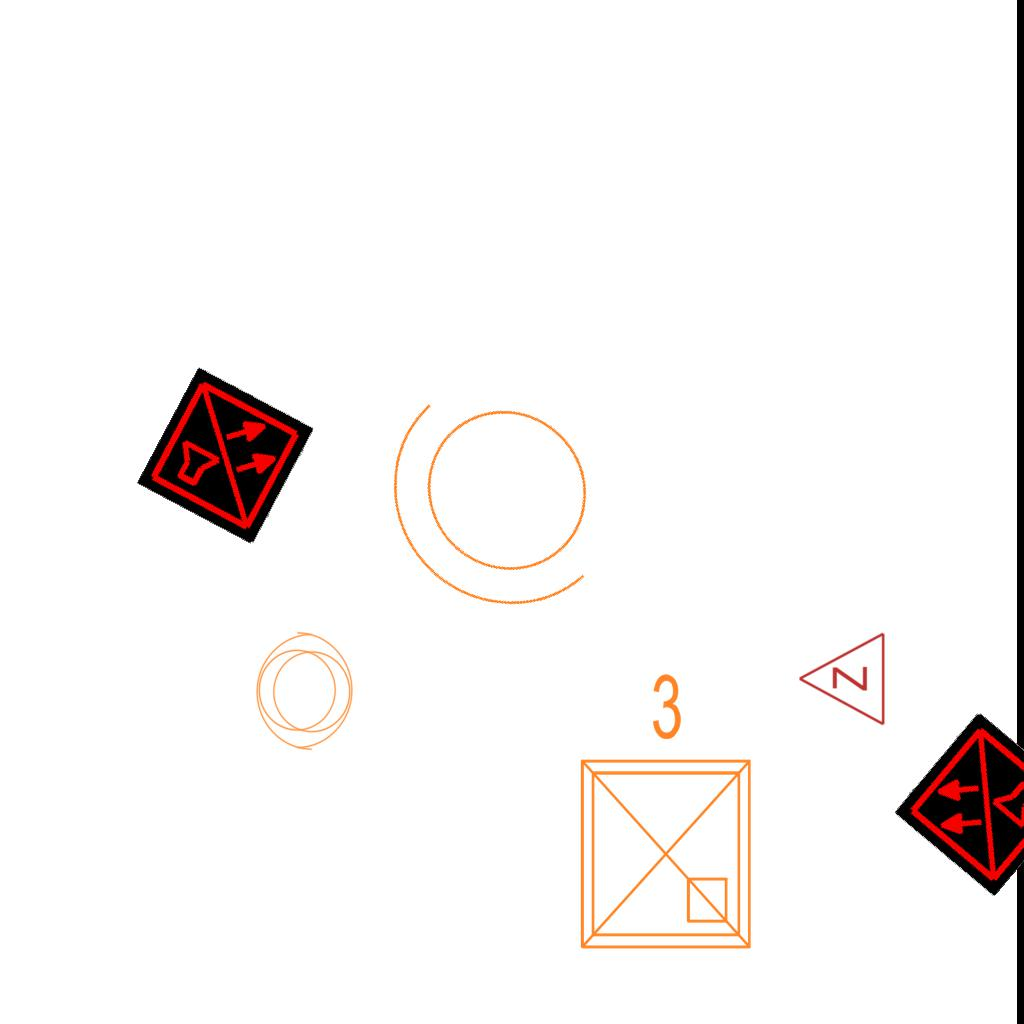Einbaudownlights_LED_Konferenzraeume: (558, 663, 766, 963)
OKW_Multisensormelder_(Kombination_optischer_Rauch-Kahlenmonoxid_Waerme-Melder): (136, 366, 316, 546), (893, 711, 1024, 897)
Scheinwerfer_fuer_Alarmbeleuchtung: (332, 328, 676, 675), (246, 621, 358, 753), (251, 629, 363, 761)
Zimmersignalleuchte: (792, 631, 892, 729)
